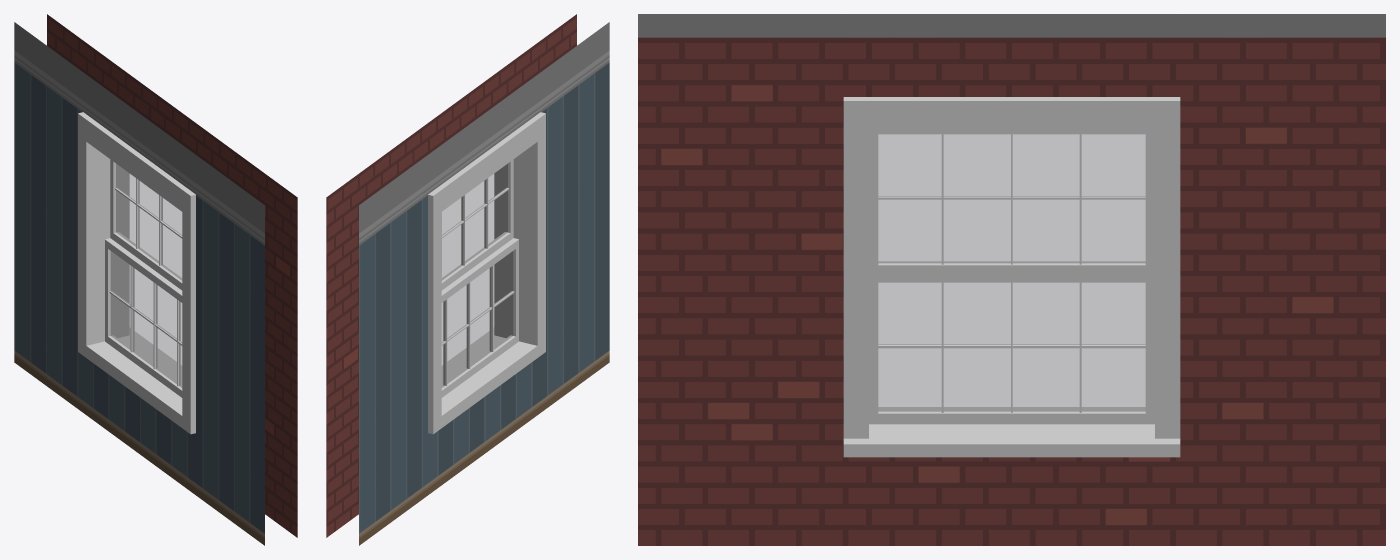
File: SM_window_03.glb
3 views of the same model, side by side, from view 1: azimuth 30°, elevation 25°; view 2: azimuth 150°, elevation 25°; view 3: azimuth 270°, elevation 25° (orthographic). The views are drawn at different scales.
Visible parts, largest first — view 1: SM_window_03; view 2: SM_window_03; view 3: SM_window_03.
Boxes of the visible parts, x1,y1,x2,y2 form: SM_window_03: (14, 14, 297, 545); SM_window_03: (326, 14, 609, 545); SM_window_03: (638, 14, 1385, 545).
Size of the model in its own units: 0.4744 by 3 by 4.
Materials: 4 (3 with a texture image).
